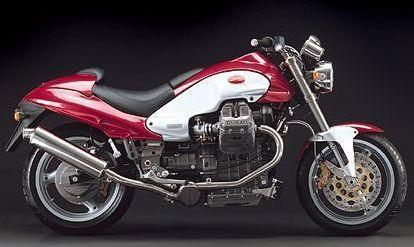motorcycle: (4, 26, 414, 240)
